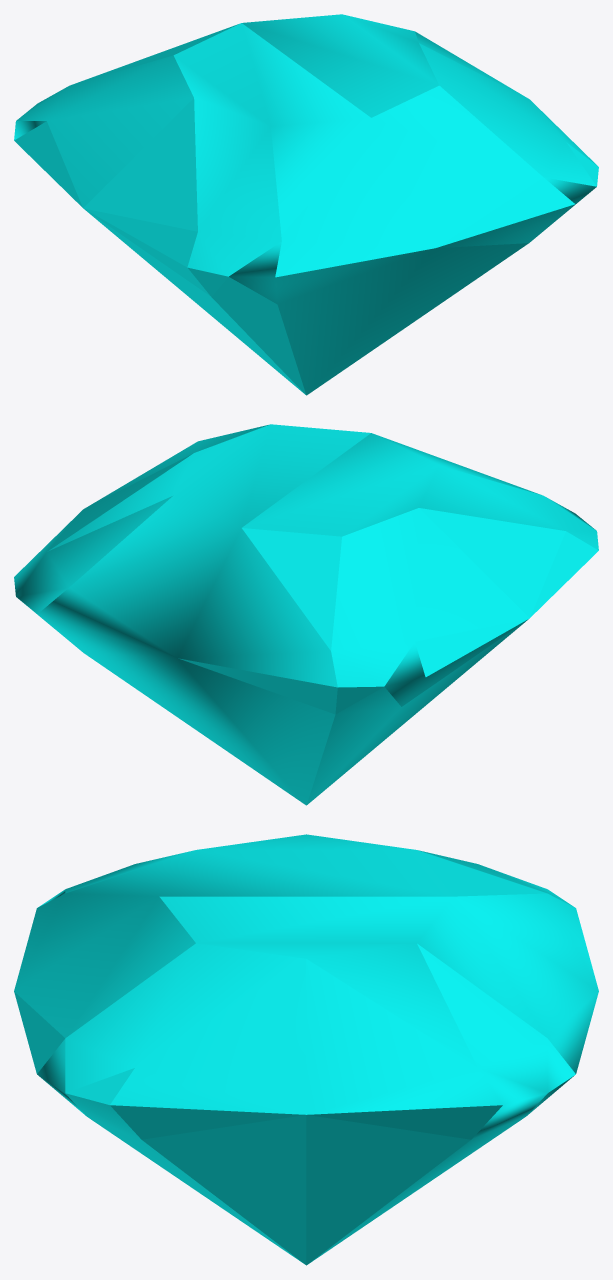
Rendered from Diamond.fbx.
3 renders of one model, top to bottom at view 1: azimuth 30°, elevation 25°; view 2: azimuth 150°, elevation 25°; view 3: azimuth 270°, elevation 25°, orthographic. The views are drawn at different scales.
Visible parts, largest first — view 1: Diamond; view 2: Diamond; view 3: Diamond.
Boxes of the visible parts, bbox=[...] form: Diamond: bbox=[14, 14, 598, 395]; Diamond: bbox=[14, 424, 598, 805]; Diamond: bbox=[14, 834, 598, 1265].
Size of the model in its own units: 172 by 119 by 172.
